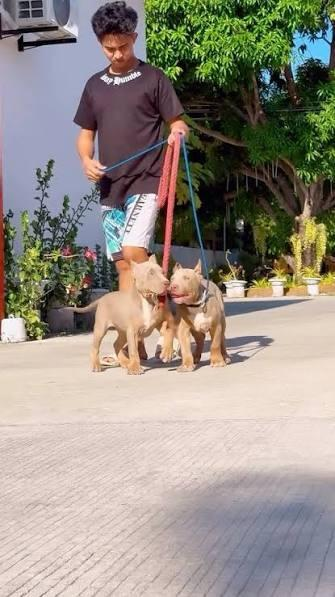adult_dog: (54, 255, 170, 375), (156, 258, 231, 373)
non-dog: (75, 2, 190, 370)
